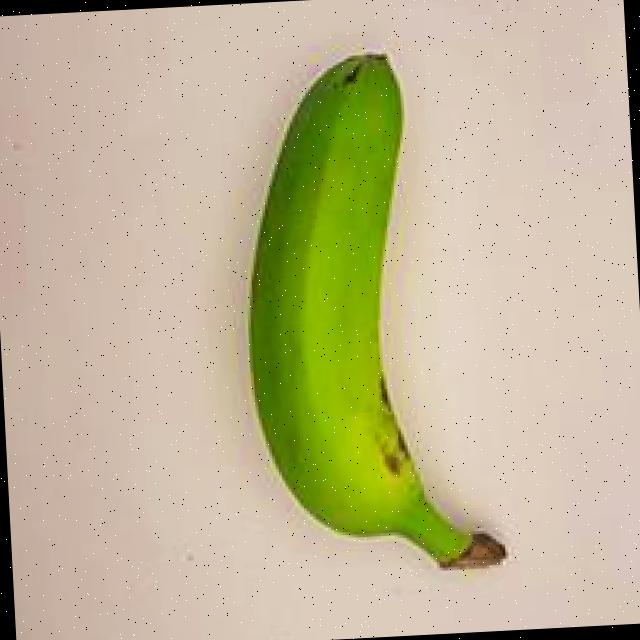Unripe: (192, 20, 543, 626)
